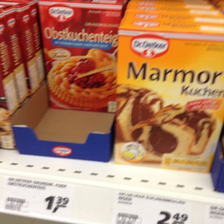cake: (113, 16, 224, 173), (39, 1, 124, 115)
